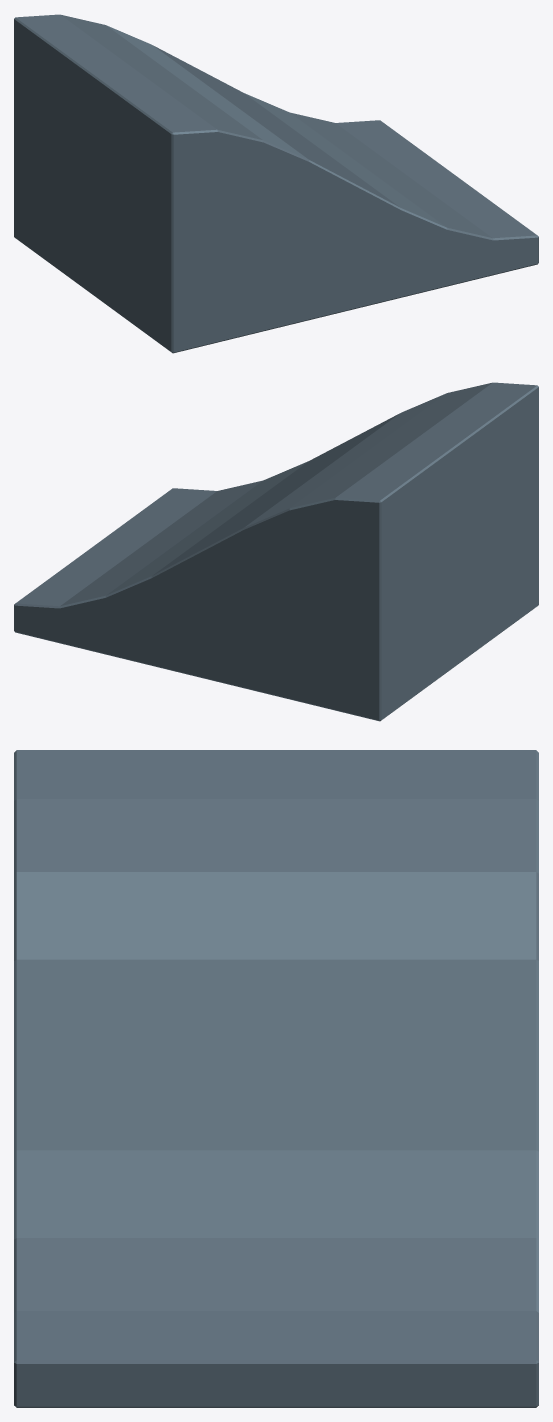
File: P46_Ramp_Transition.fbx
3 renders of one model, top to bottom at view 1: azimuth 30°, elevation 25°; view 2: azimuth 150°, elevation 25°; view 3: azimuth 270°, elevation 25°, orthographic. The views are drawn at different scales.
Parts seen in each view (by area): view 1: P46_Ramp_Transition; view 2: P46_Ramp_Transition; view 3: P46_Ramp_Transition.
Part boxes in pixels (x1,y1,x2,y2): P46_Ramp_Transition: [14, 14, 538, 353]; P46_Ramp_Transition: [14, 382, 538, 721]; P46_Ramp_Transition: [14, 750, 538, 1407].
Size of the model in its own units: 2 by 1.15 by 1.5.
Materials: 1 (1 with a texture image).
